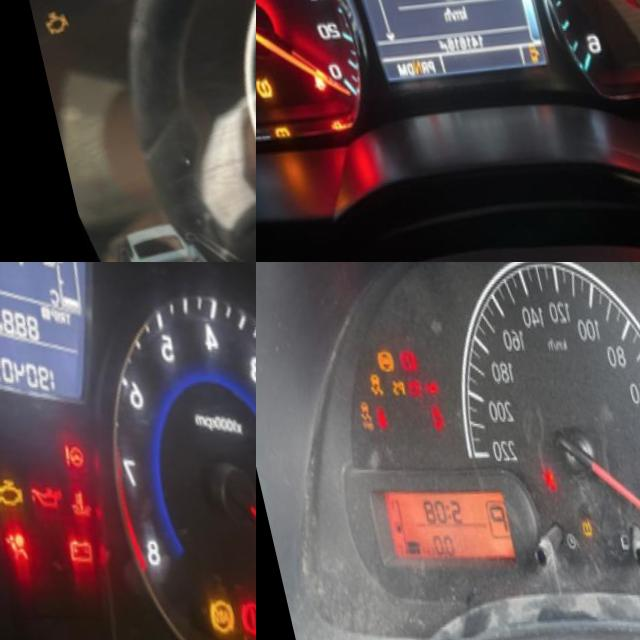Doors: (238, 587, 256, 627)
Engine cooling system: (47, 489, 78, 525)
